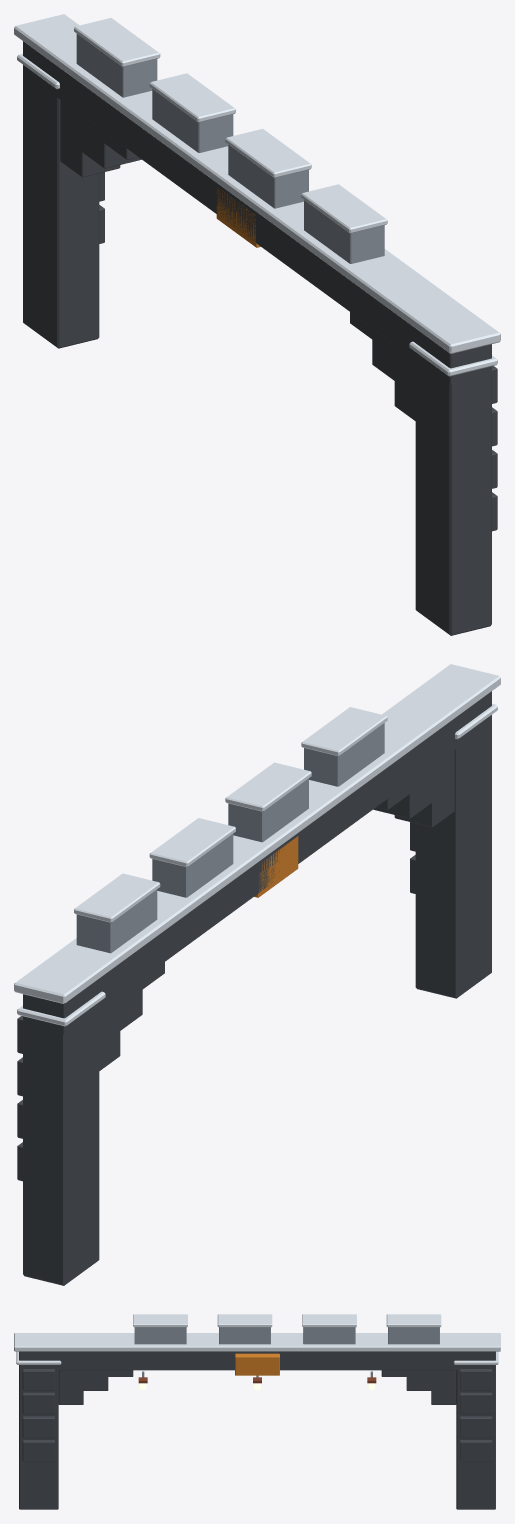
File: DepotGate_-2_-2.fbx
3 views of the same model, one above another, from view 1: azimuth 30°, elevation 25°; view 2: azimuth 150°, elevation 25°; view 3: azimuth 270°, elevation 25° (orthographic). The views are drawn at different scales.
Parts seen in each view (by area): view 1: DepotGate_-2_-2; view 2: DepotGate_-2_-2; view 3: DepotGate_-2_-2.
Boxes of the visible parts, x1=… form: DepotGate_-2_-2: x1=14, y1=14, x2=500, y2=635; DepotGate_-2_-2: x1=14, y1=664, x2=500, y2=1285; DepotGate_-2_-2: x1=14, y1=1314, x2=500, y2=1509.
Size of the model in its own units: 168 by 823 by 1960.
